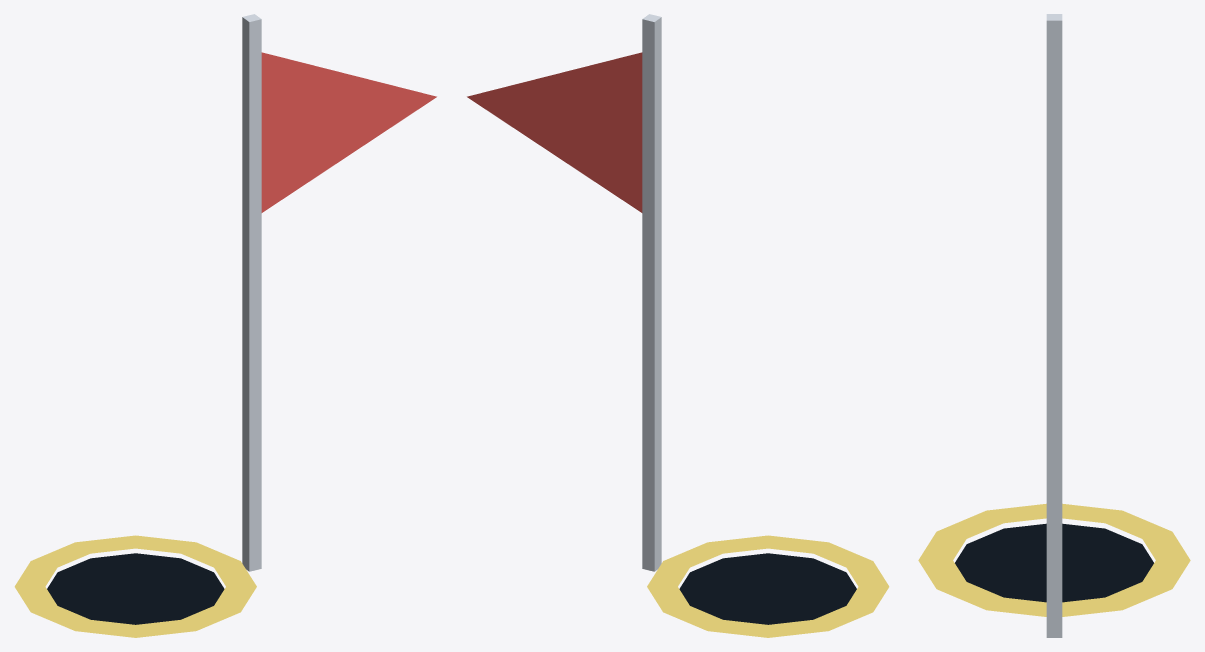
The model's file is hole.obj.
The picture shows the model from 3 angles, left to right: view 1: azimuth 30°, elevation 25°; view 2: azimuth 150°, elevation 25°; view 3: azimuth 270°, elevation 25°; orthographic projection. The views are drawn at different scales.
Parts seen in each view (by area): view 1: hole; view 2: hole; view 3: hole.
Part boxes in pixels (box(x1,y1,x2,y2)): hole: box(14, 14, 436, 637); hole: box(467, 14, 889, 637); hole: box(918, 14, 1190, 637).
Size of the model in its own units: 1.82 by 2.35 by 0.94.
